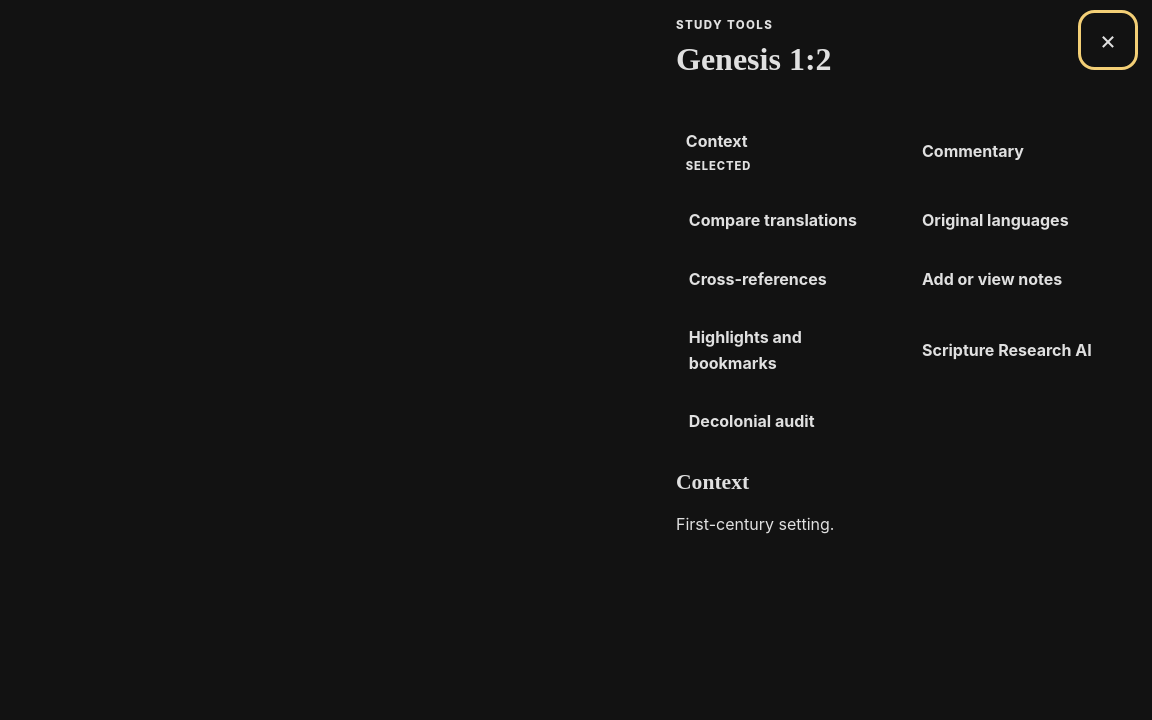
it: StudyTools › renders every registry tool as a word-labelled choice with inline active state
Expected: the text "First-century setting." is shown, [676,514,834,534]
Click the button "Compare translations" at (787, 221), box [676,197,899,245]
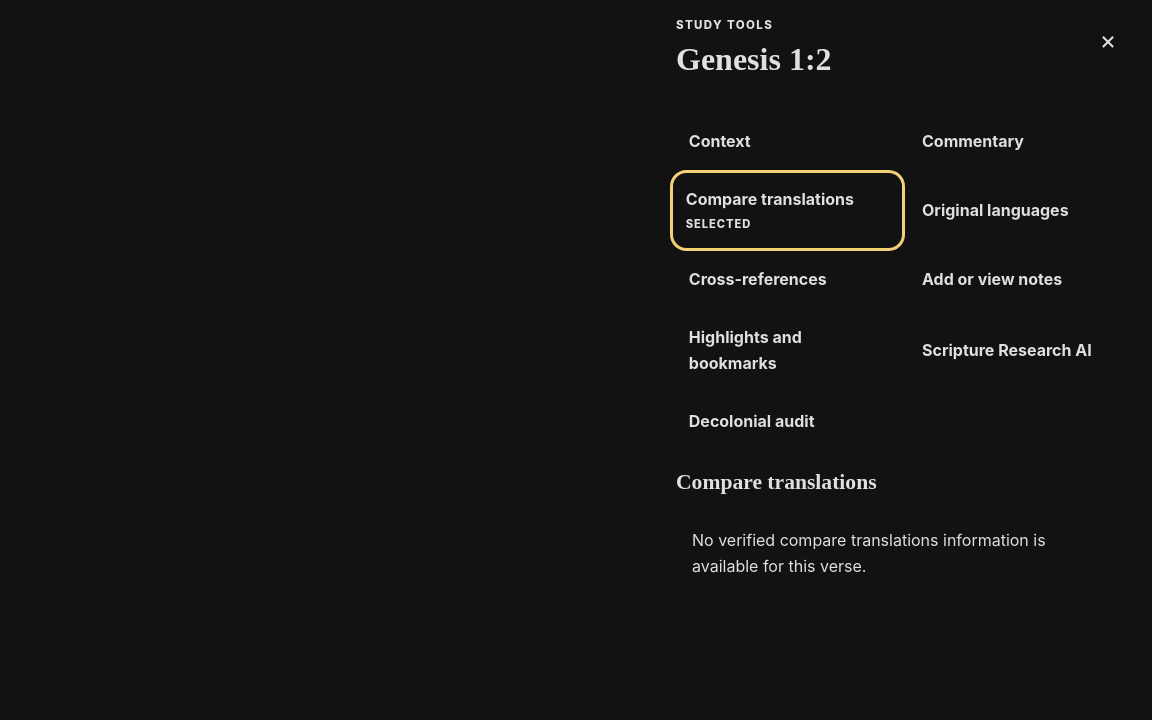
Expected: the message reads "No verified compare translations information is available for this verse.", [692,530,1046,576]
